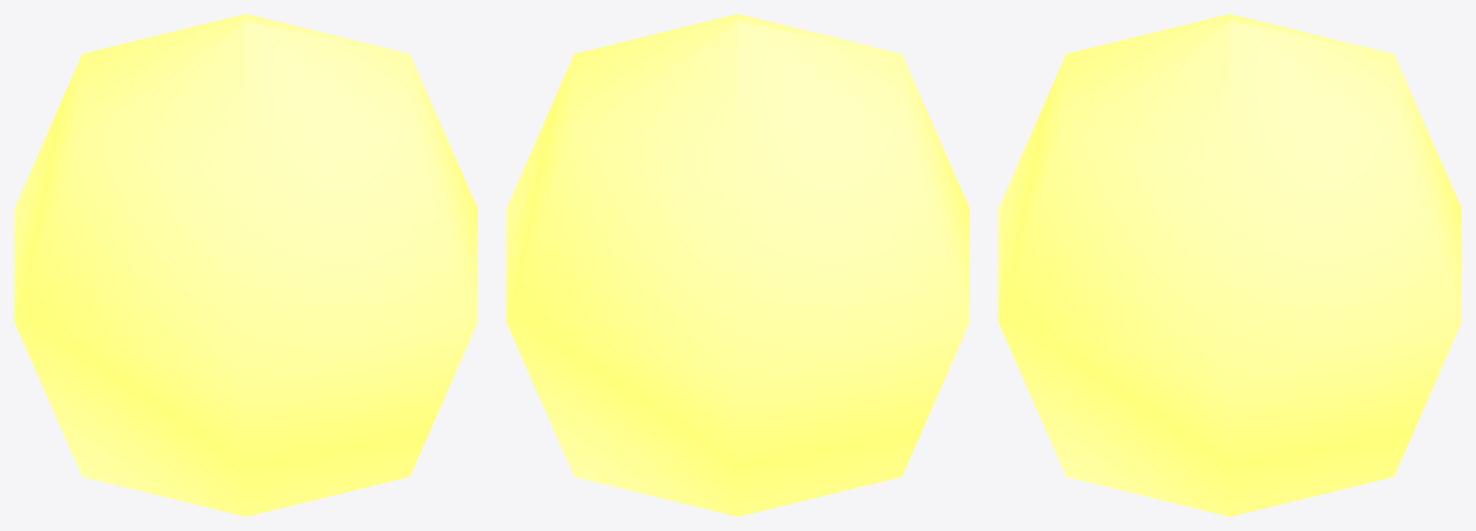
File: lb4_ember.glb
The picture shows the model from 3 angles, left to right: view 1: azimuth 30°, elevation 25°; view 2: azimuth 150°, elevation 25°; view 3: azimuth 270°, elevation 25°; orthographic projection.
Visible parts, largest first — view 1: lb4_ember; view 2: lb4_ember; view 3: lb4_ember.
Part boxes in pixels (box(x1,y1,x2,y2)): lb4_ember: box(14, 14, 477, 516); lb4_ember: box(506, 14, 969, 516); lb4_ember: box(998, 14, 1461, 516).
Size of the model in its own units: 0.12 by 0.12 by 0.1039.
